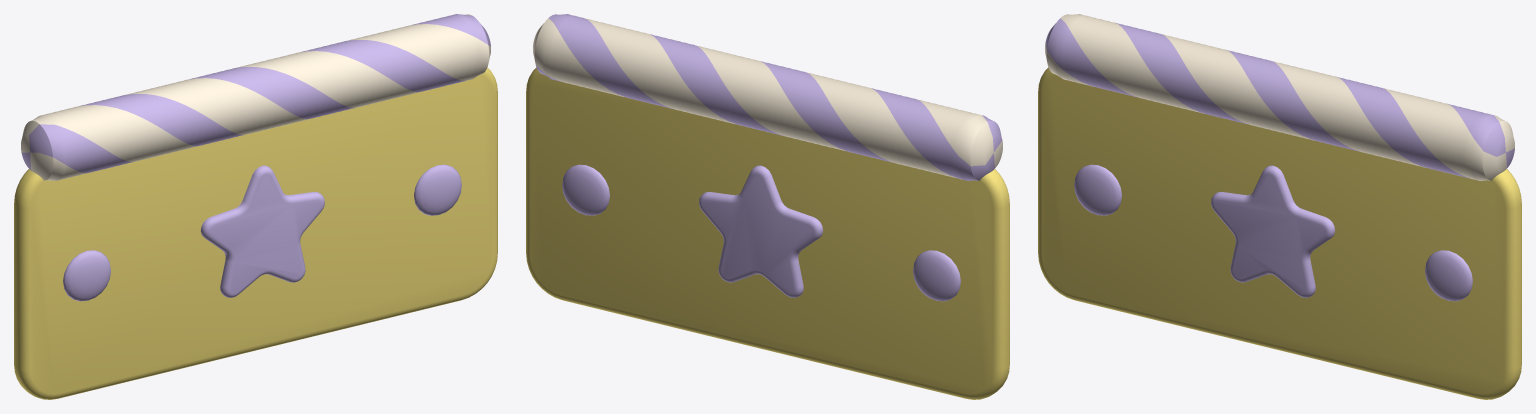
Rendered from spinner_blade.glb.
The picture shows the model from 3 angles, left to right: view 1: azimuth 30°, elevation 25°; view 2: azimuth 150°, elevation 25°; view 3: azimuth 330°, elevation 25°; orthographic projection.
Parts seen in each view (by area): view 1: spinner_blade; view 2: spinner_blade; view 3: spinner_blade.
Part boxes in pixels (x1,y1,x2,y2): spinner_blade: (14, 14, 497, 399); spinner_blade: (526, 14, 1009, 399); spinner_blade: (1038, 14, 1521, 399).
Bounding box in the file's own units: 1.8 × 1.01 × 0.22.
